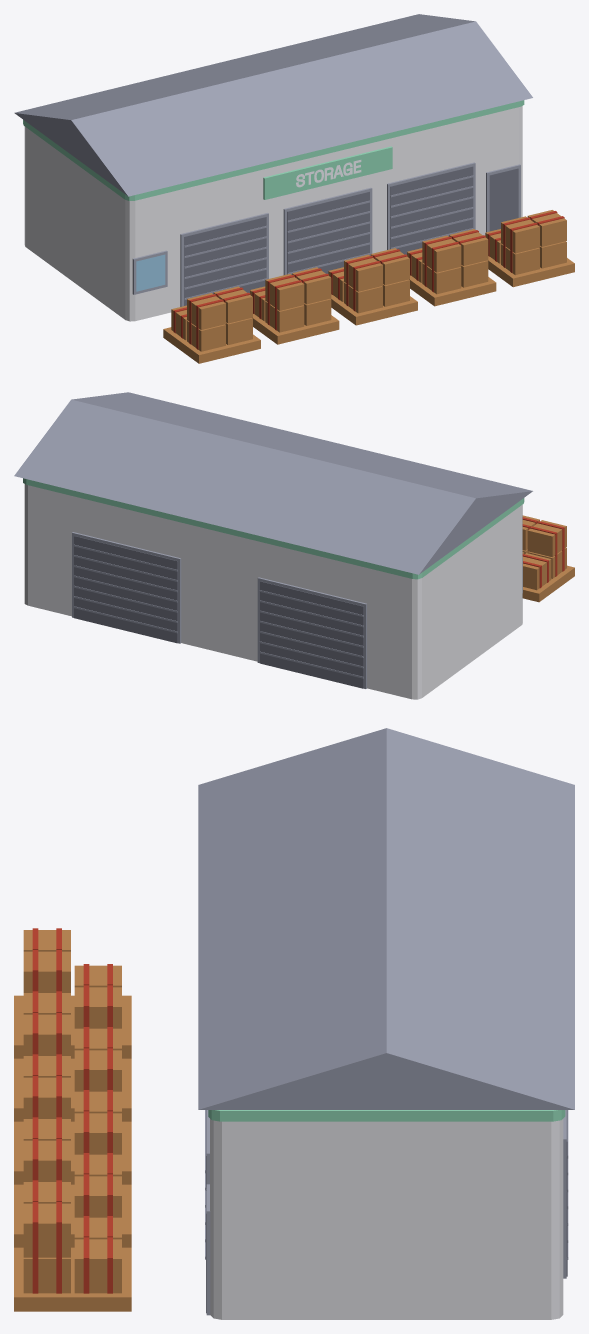
File: storehouse-2x2-t5-tone-a.glb
3 views of the same model, one above another, from view 1: azimuth 30°, elevation 25°; view 2: azimuth 150°, elevation 25°; view 3: azimuth 270°, elevation 25° (orthographic). The views are drawn at different scales.
Visible parts, largest first — view 1: storehouse-2x2-t5-tone-a; view 2: storehouse-2x2-t5-tone-a; view 3: storehouse-2x2-t5-tone-a.
Boxes of the visible parts, x1=… form: storehouse-2x2-t5-tone-a: x1=14, y1=14, x2=574, y2=363; storehouse-2x2-t5-tone-a: x1=14, y1=392, x2=574, y2=699; storehouse-2x2-t5-tone-a: x1=14, y1=728, x2=574, y2=1319.
Bounding box in the file's own units: 1.96 × 0.76 × 1.43.
Materials: 1 (1 with a texture image).
